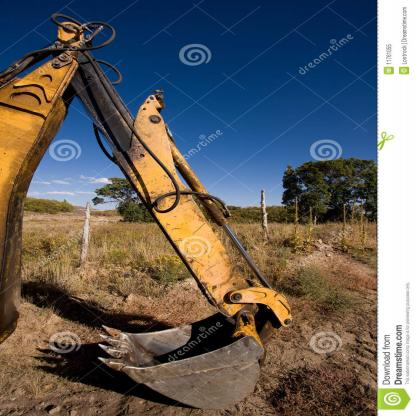excavator: (9, 18, 298, 413)
